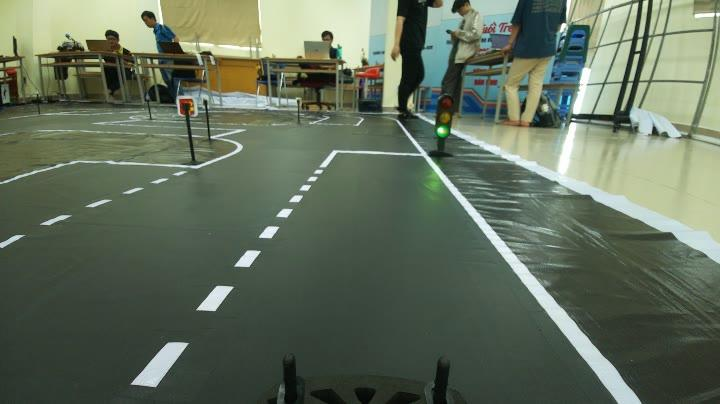trafficlight: (426, 92, 460, 165)
